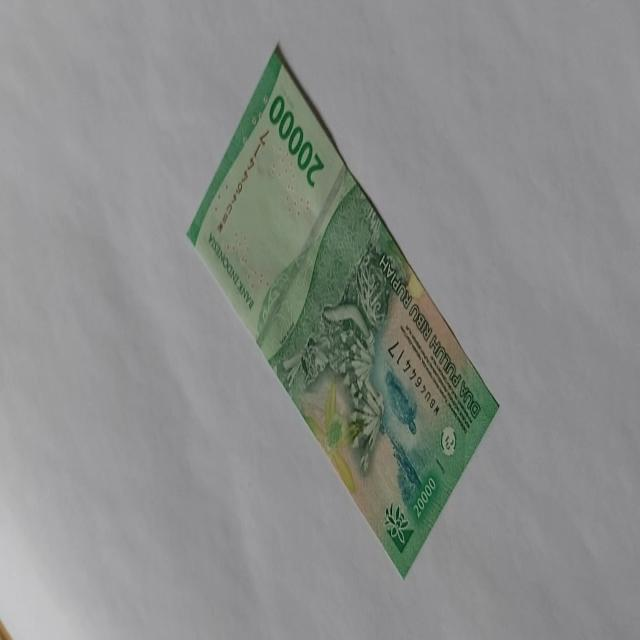dua puluh ribu rupiah: (185, 41, 500, 578)
